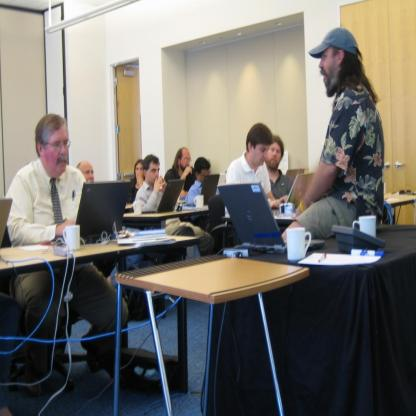board: (218, 181, 326, 254), (74, 185, 123, 242), (272, 172, 317, 214), (140, 180, 185, 214), (185, 174, 220, 206), (0, 198, 13, 249)
